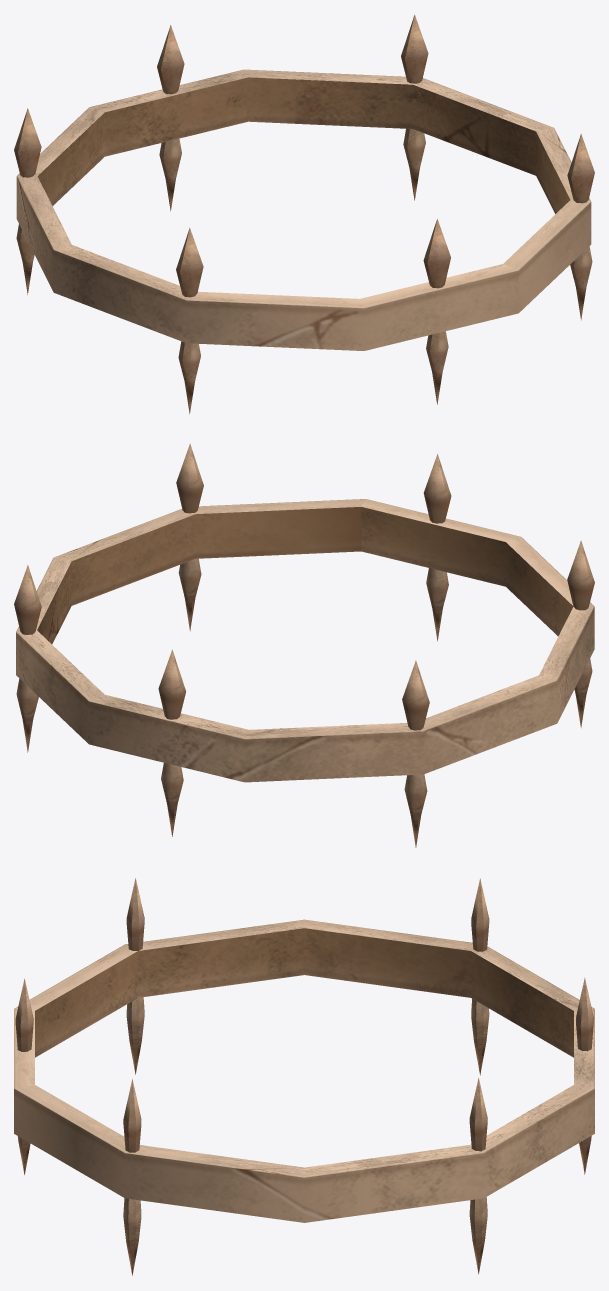
File: altar_02.FBX
3 views of the same model, one above another, from view 1: azimuth 30°, elevation 25°; view 2: azimuth 150°, elevation 25°; view 3: azimuth 270°, elevation 25° (orthographic). The views are drawn at different scales.
Parts seen in each view (by area): view 1: Cylinder001; view 2: Cylinder001; view 3: Cylinder001.
Boxes of the visible parts, left/top/right/bottom form: Cylinder001: left=14, top=14, right=594, bottom=414; Cylinder001: left=14, top=443, right=594, bottom=847; Cylinder001: left=14, top=878, right=594, bottom=1275.
Bounding box in the file's own units: 4.53 × 1.62 × 4.31.
